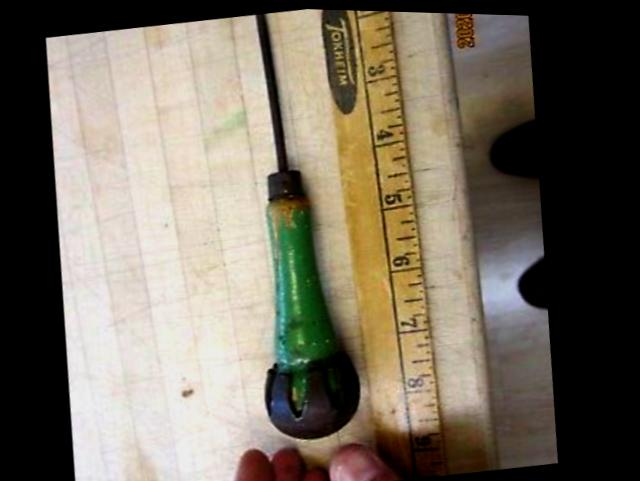ice pick: (214, 6, 395, 442)
